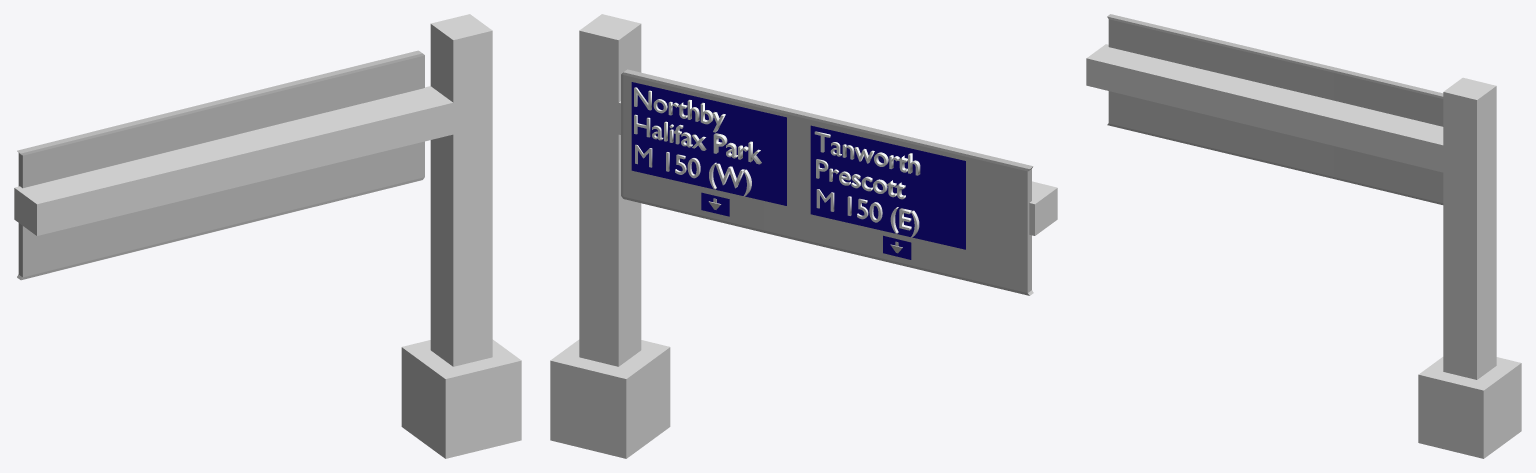
Rendered from M105SlipLanesSouthbound.fbx.
3 views of the same model, side by side, from view 1: azimuth 30°, elevation 25°; view 2: azimuth 150°, elevation 25°; view 3: azimuth 330°, elevation 25° (orthographic). The views are drawn at different scales.
Parts seen in each view (by area): view 1: Cube, Cube.008; view 2: Cube, Cube.008, Plane.002, Plane.001, Text, Text.002, Text.001, Text.003; view 3: Cube, Cube.008.
Part boxes in pixels (left/top/right/bottom): Cube: left=14, top=14, right=521, bottom=458; Cube.008: left=17, top=50, right=424, bottom=280; Cube: left=550, top=14, right=1057, bottom=458; Cube.008: left=621, top=69, right=1033, bottom=295; Plane.002: left=810, top=125, right=965, bottom=249; Plane.001: left=631, top=82, right=786, bottom=205; Text: left=634, top=87, right=761, bottom=164; Text.002: left=814, top=131, right=920, bottom=199; Text.001: left=635, top=144, right=751, bottom=196; Text.003: left=816, top=189, right=919, bottom=237; Cube: left=1086, top=44, right=1521, bottom=458; Cube.008: left=1107, top=14, right=1443, bottom=204.
Size of the model in its own units: 1244 by 1019 by 200.
